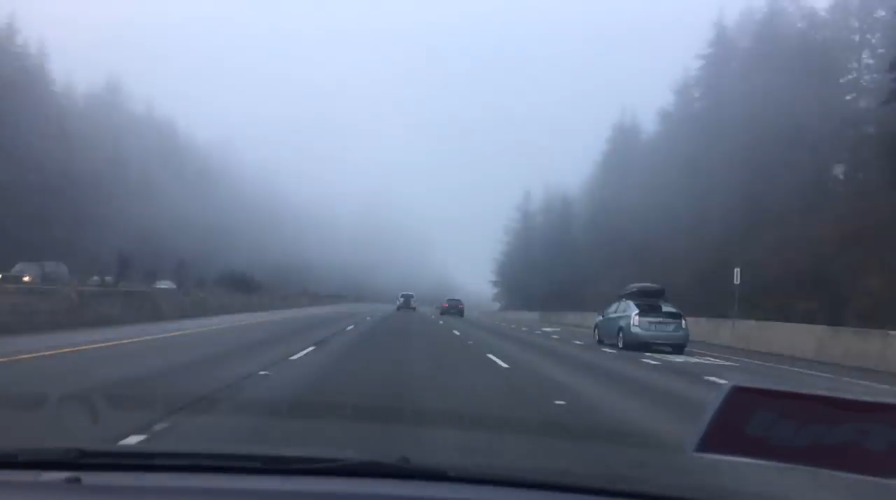car: (593, 279, 694, 356), (1, 259, 72, 300), (395, 289, 417, 313), (149, 280, 179, 297), (85, 275, 115, 292), (441, 296, 465, 317)
